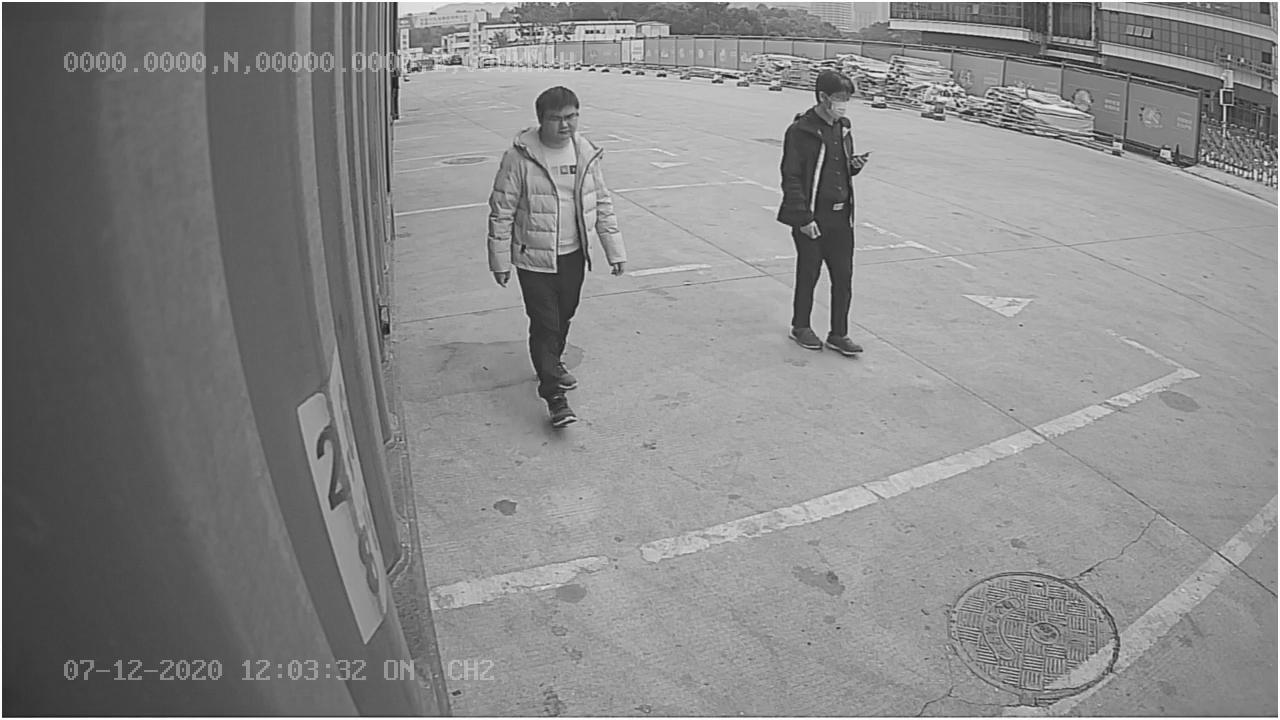person: (486, 84, 630, 433), (775, 69, 874, 365)
